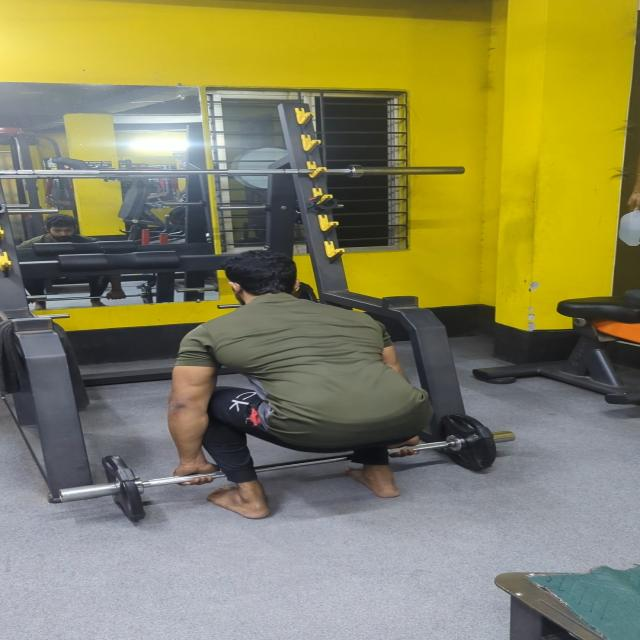Normal_Deadlifts: (83, 232, 591, 522)
